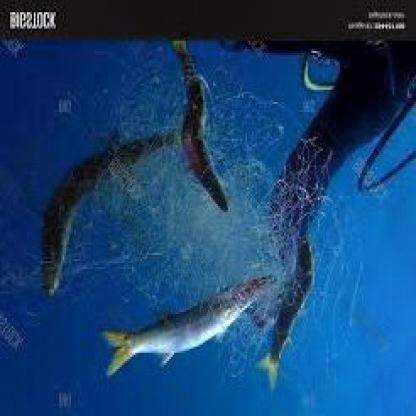net: (118, 98, 314, 328)
